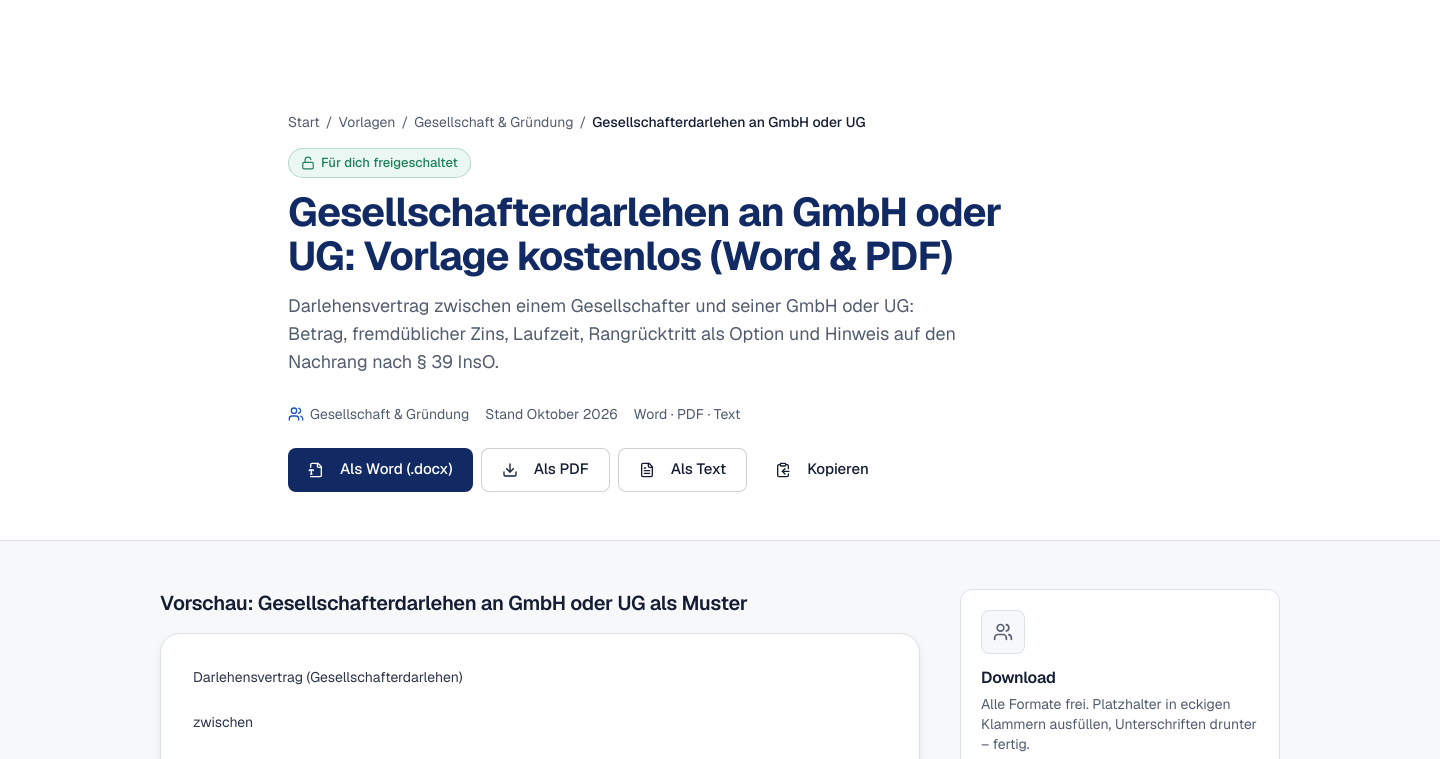
Test: Vorlage nach der Bestätigung: erst Download, dann nächster Schritt › Wiederkehrend freigeschaltet: Kasten erst nach dem Download, kein Bestätigt-Hinweis
Check: the text "Für dich freigeschaltet" is shown, box [288, 148, 471, 178]
Click the button "Als Text" at (682, 470), box [618, 448, 747, 492]
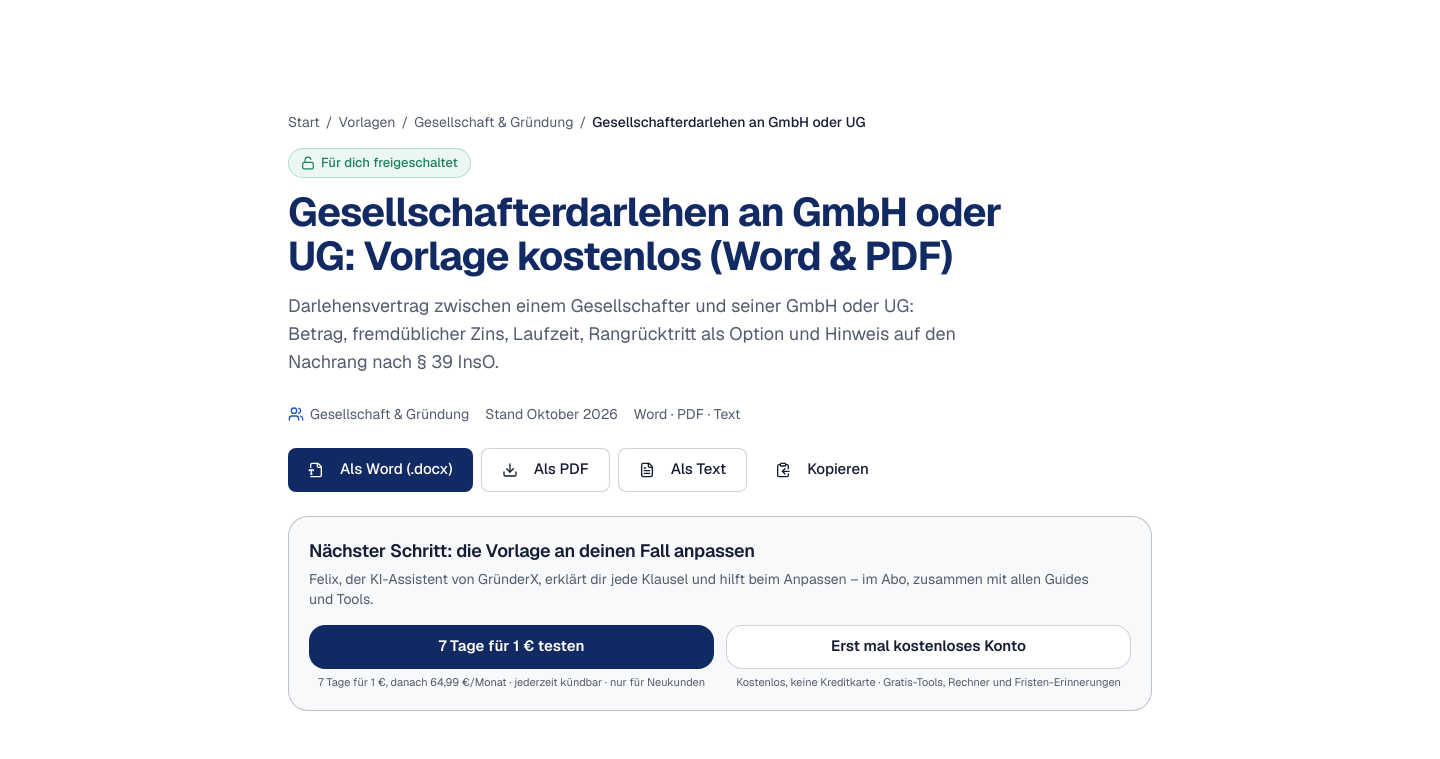
Check: the element with test id "vorlage-weiter" is shown, box [288, 516, 1152, 711]
